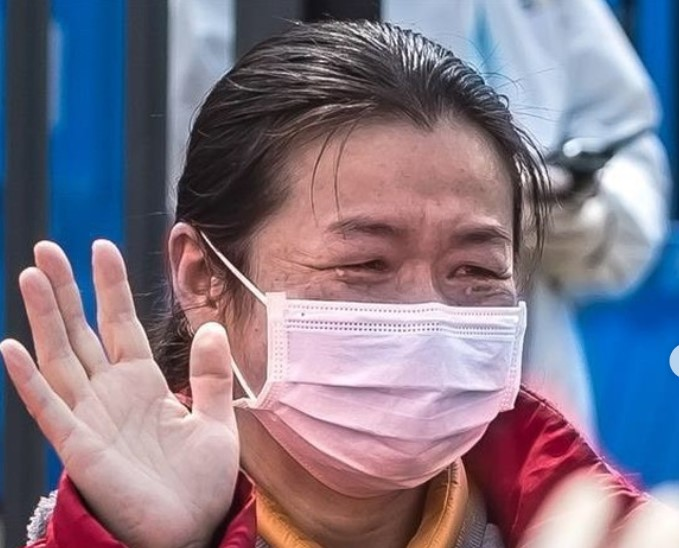face_with_mask: (166, 26, 530, 501)
